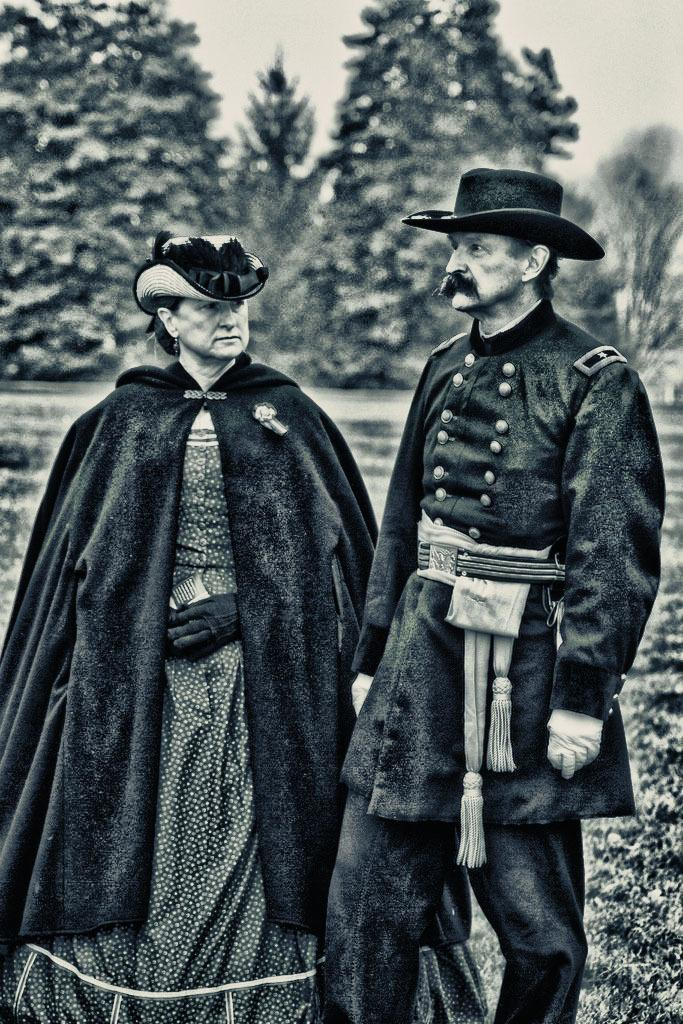Hat: (402, 165, 604, 263), (131, 232, 271, 314)
